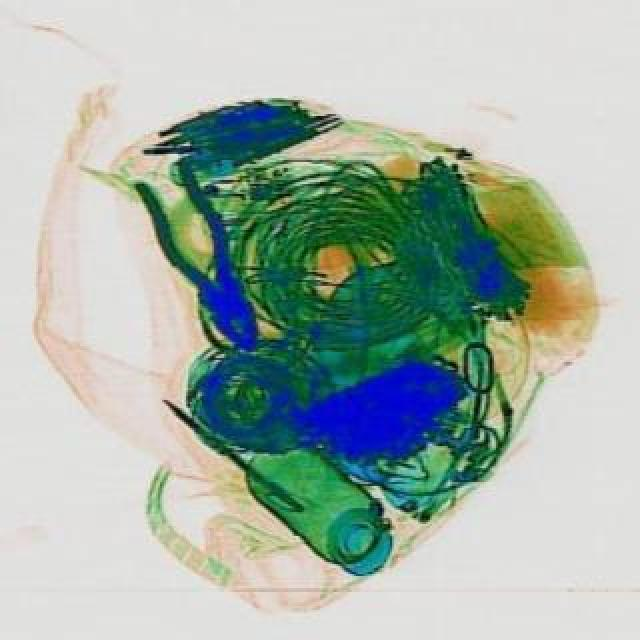wrench: (122, 156, 278, 368)
